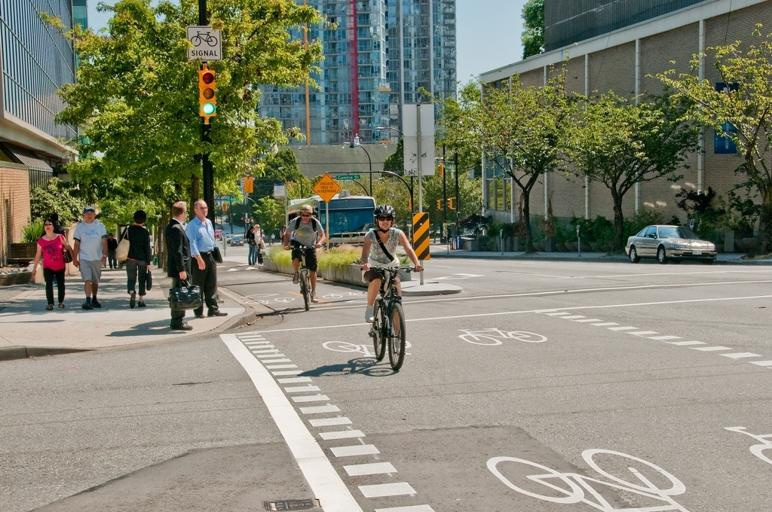non-vehicle: (352, 261, 424, 371), (284, 240, 323, 310)
